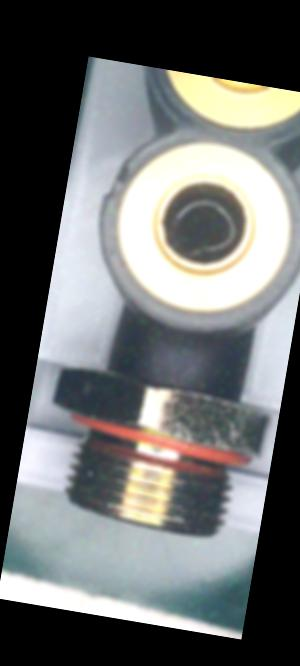bump: (95, 155, 136, 207)
joint line: (174, 342, 183, 363)
off-centered: (165, 191, 243, 267)
white mark: (178, 363, 201, 390), (169, 371, 177, 384)
